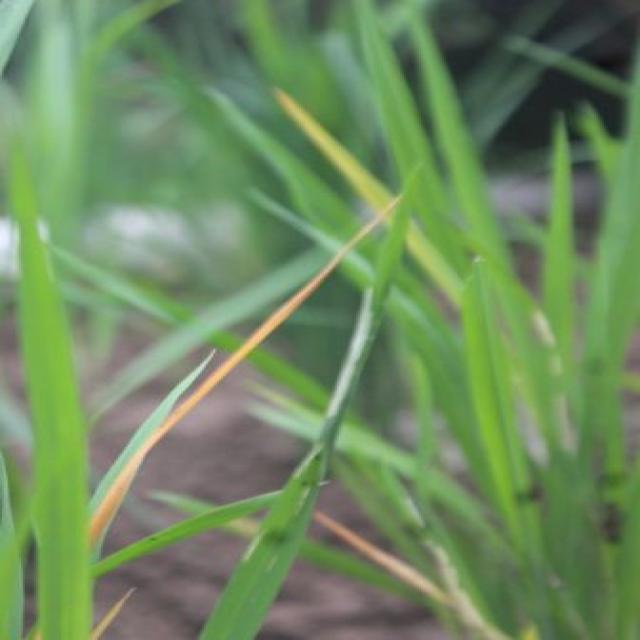Rice Tungro: (78, 210, 353, 570), (276, 88, 492, 351), (300, 512, 499, 639)
